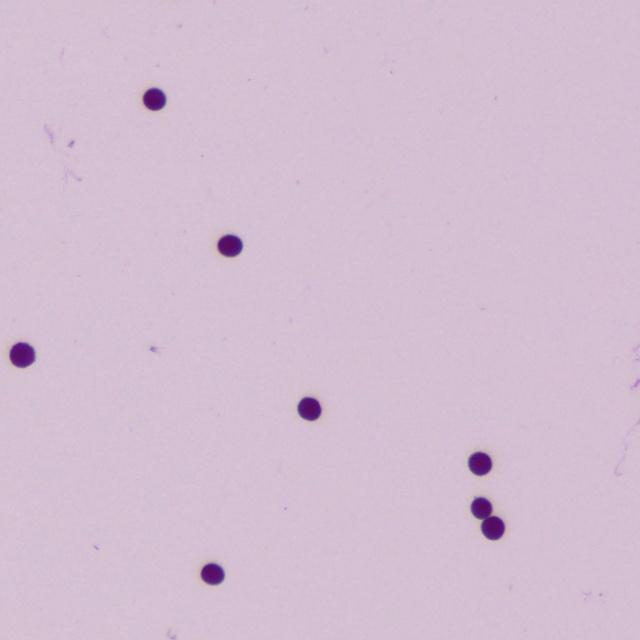viable: (10, 342, 34, 366), (481, 516, 504, 539), (468, 452, 491, 475), (218, 234, 242, 256), (299, 397, 321, 420), (143, 88, 165, 110), (201, 563, 224, 584), (473, 497, 491, 519)
